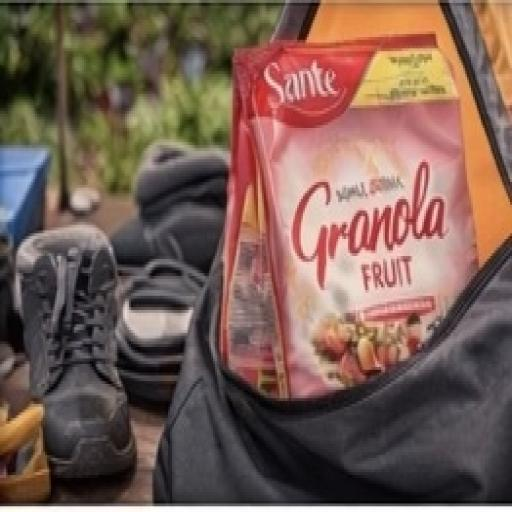granola: (194, 9, 494, 480)
